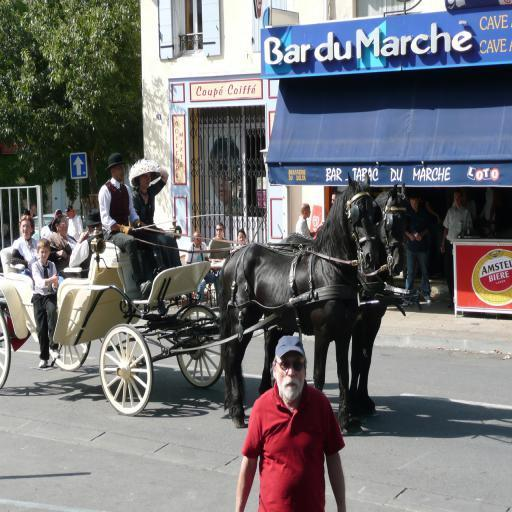horse: (260, 178, 408, 423)
